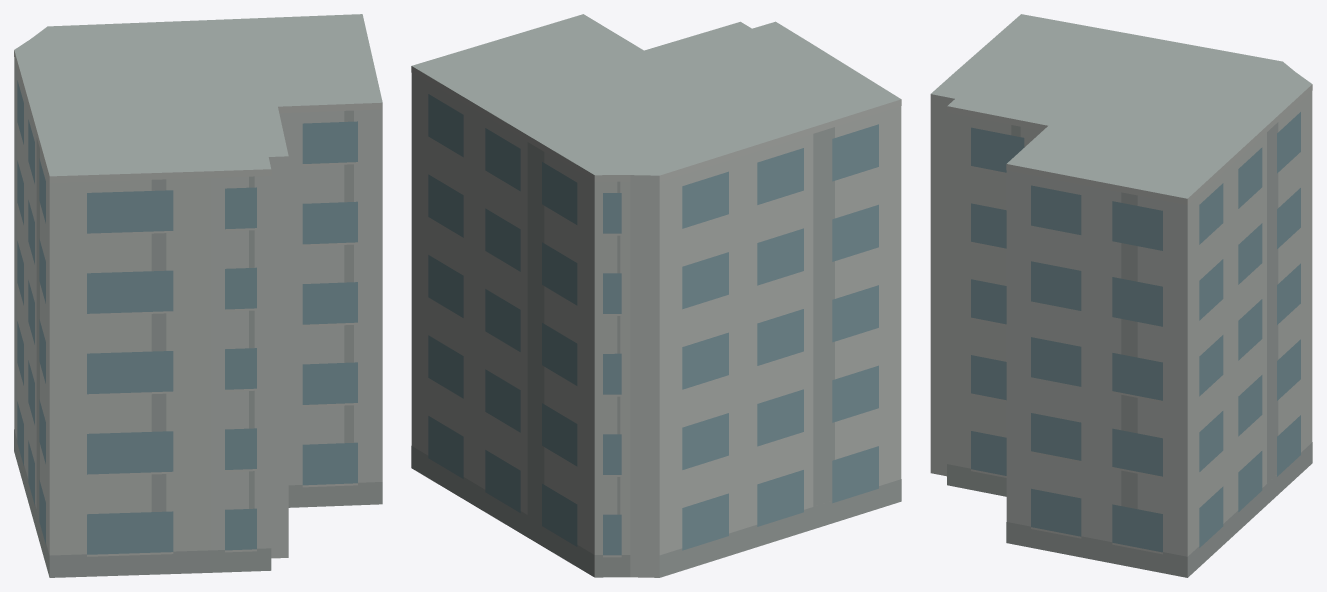
Rendered from survey-upis-32801814.glb.
3 renders of one model, left to right at view 1: azimuth 30°, elevation 25°; view 2: azimuth 150°, elevation 25°; view 3: azimuth 270°, elevation 25°, orthographic. The views are drawn at different scales.
Visible parts, largest first — view 1: survey-upis-32801814.tmp; view 2: survey-upis-32801814.tmp; view 3: survey-upis-32801814.tmp.
Boxes of the visible parts, x1,y1,x2,y2 form: survey-upis-32801814.tmp: (14, 14, 382, 577); survey-upis-32801814.tmp: (411, 14, 901, 577); survey-upis-32801814.tmp: (930, 14, 1312, 577).
Size of the model in its own units: 15.27 by 14.6 by 13.34.
